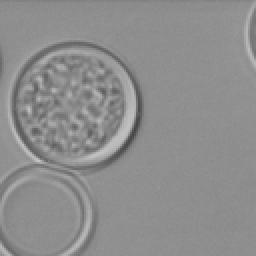picoshell: (8, 42, 140, 168), (0, 164, 94, 254), (244, 0, 254, 68)
